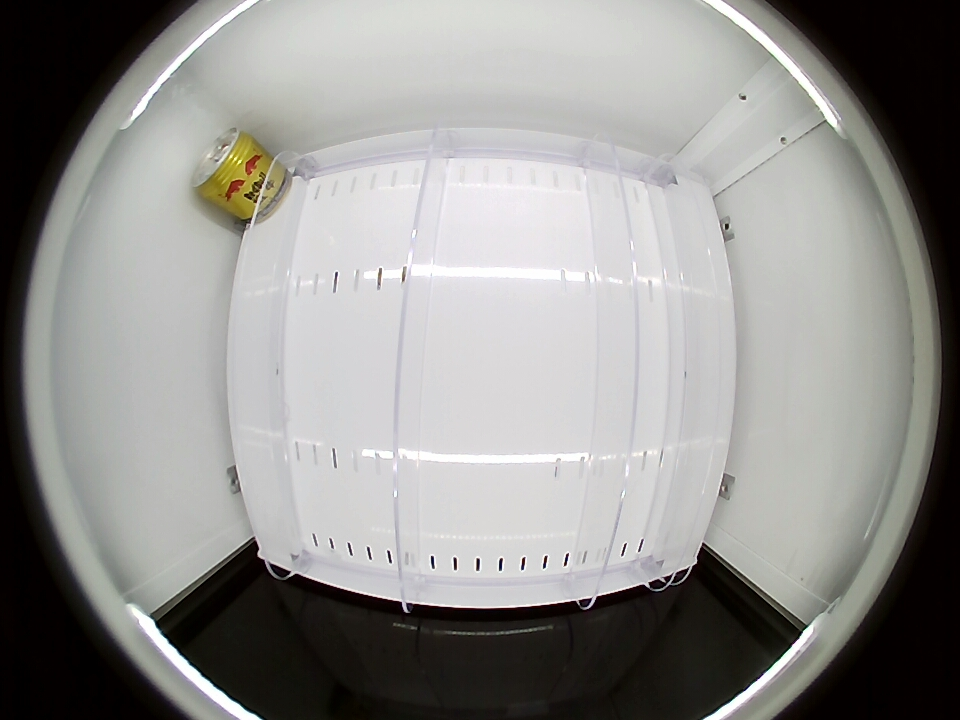hongniu2: (193, 128, 258, 201)
